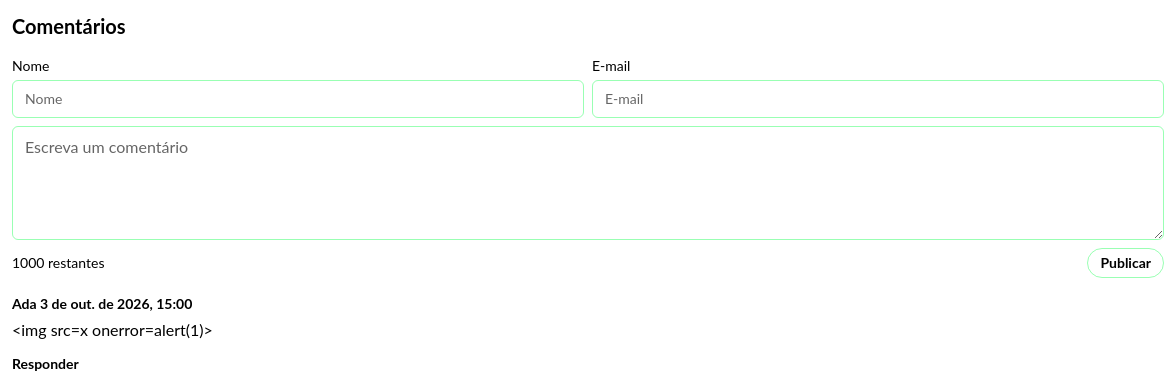
Test: shows the text as written and counts the characters still available
The width and height of the screenshot is (1176, 388).
Expected: the text "<img src=x onerror=alert(1)>" is shown, [12, 320, 213, 339]
Expected: the text "1000 restantes" is shown, [12, 253, 104, 273]
Step 1. Type "Oi" into the text box labelled "Escreva um comentário" → coordinates (588, 183), box [12, 126, 1164, 240]
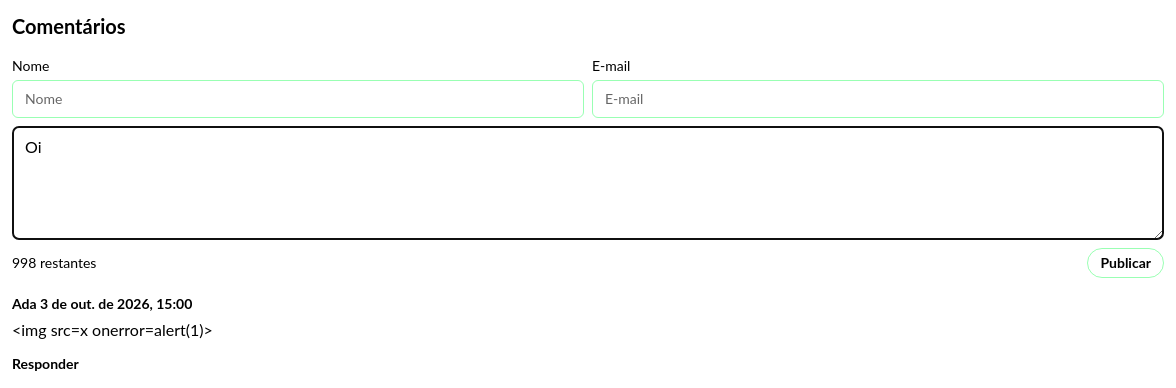
Expected: the text "998 restantes" is shown, [12, 253, 96, 273]
